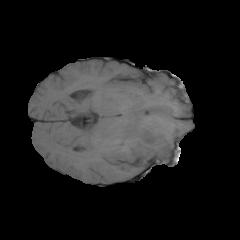glioma: (118, 113, 184, 166)
